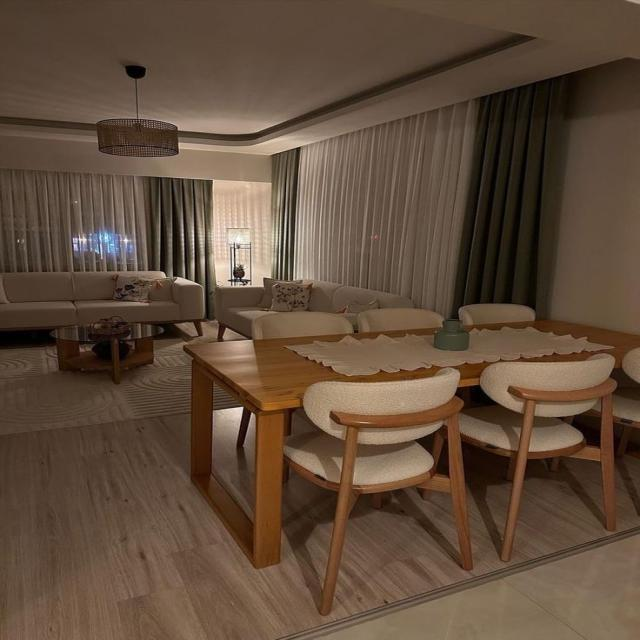obstacle: (182, 317, 640, 568), (285, 381, 478, 566), (481, 362, 618, 534), (0, 270, 205, 339), (214, 276, 418, 341)
